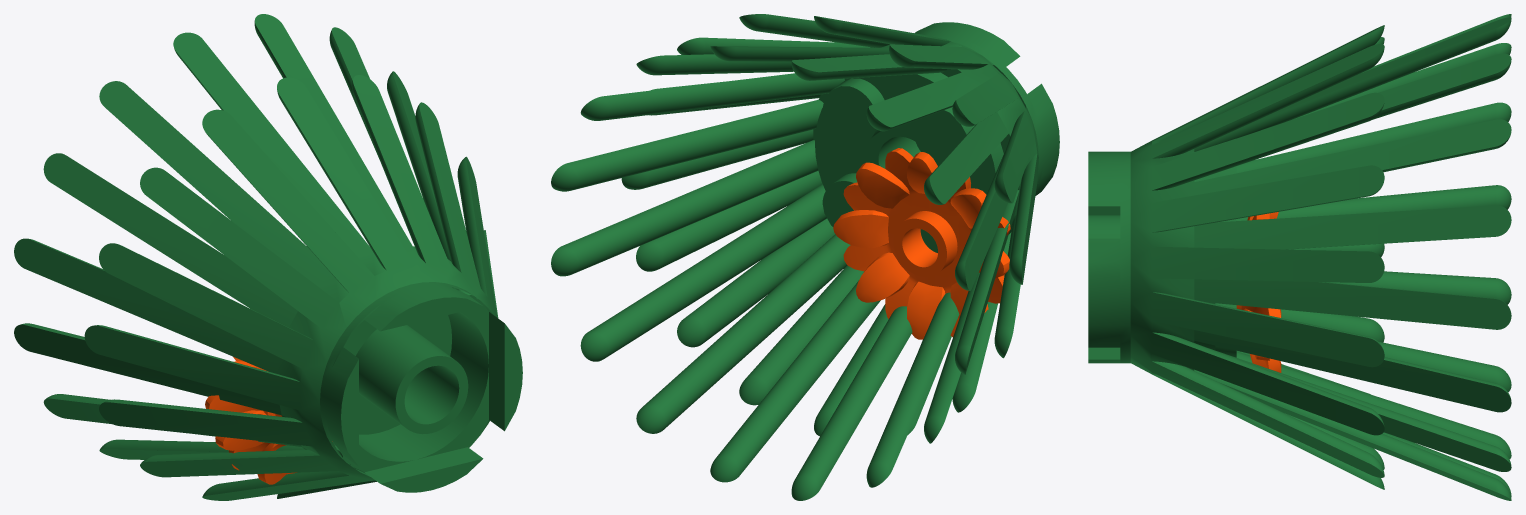
The model's file is planta3Ent.dae.
3 views of the same model, side by side, from view 1: azimuth 30°, elevation 25°; view 2: azimuth 150°, elevation 25°; view 3: azimuth 270°, elevation 25° (orthographic).
Visible parts, largest first — view 1: Inner-Node-UntitledModel_dot_io-0, Inner-Node-UntitledModel_dot_io-1; view 2: Inner-Node-UntitledModel_dot_io-0, Inner-Node-UntitledModel_dot_io-1; view 3: Inner-Node-UntitledModel_dot_io-0, Inner-Node-UntitledModel_dot_io-1.
Boxes of the visible parts, x1=… form: Inner-Node-UntitledModel_dot_io-0: x1=14, y1=14, x2=522, y2=500; Inner-Node-UntitledModel_dot_io-1: x1=205, y1=356, x2=332, y2=484; Inner-Node-UntitledModel_dot_io-0: x1=551, y1=14, x2=1059, y2=500; Inner-Node-UntitledModel_dot_io-1: x1=833, y1=148, x2=1010, y2=339; Inner-Node-UntitledModel_dot_io-0: x1=1088, y1=14, x2=1511, y2=500; Inner-Node-UntitledModel_dot_io-1: x1=1236, y1=212, x2=1281, y2=372.
Size of the model in its own units: 91.2 by 91.23 by 79.78.
